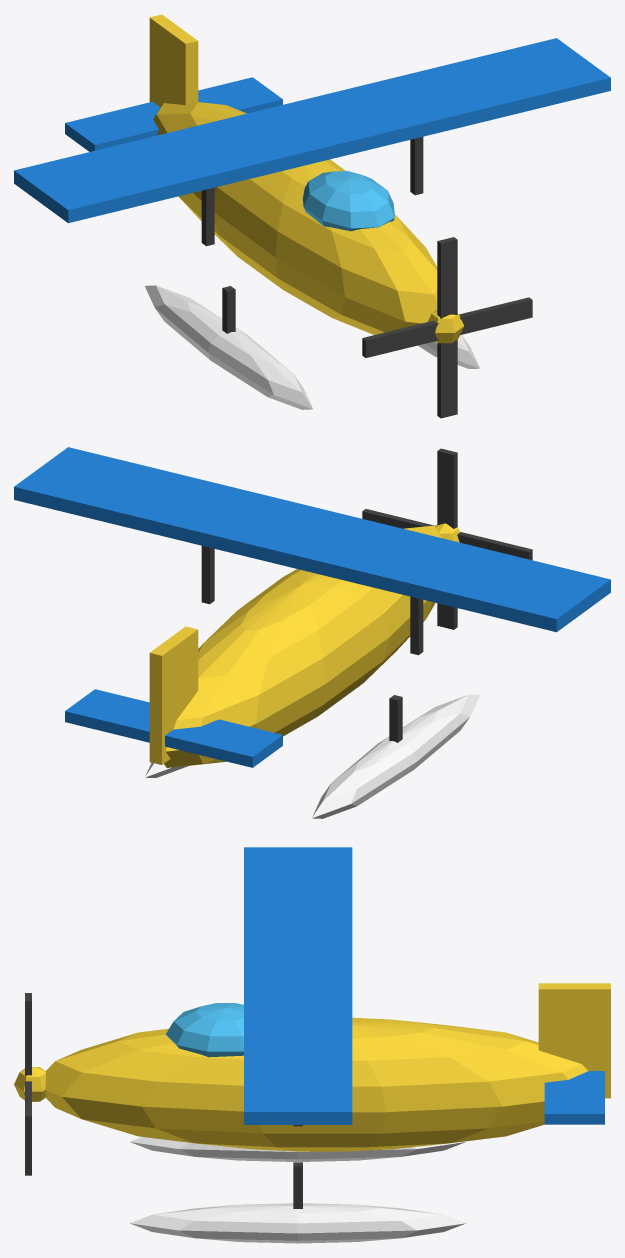
File: sjoflygplan.glb
3 renders of one model, top to bottom at view 1: azimuth 30°, elevation 25°; view 2: azimuth 150°, elevation 25°; view 3: azimuth 270°, elevation 25°, orthographic.
Visible parts, largest first — view 1: sjoflygplan; view 2: sjoflygplan; view 3: sjoflygplan.
Boxes of the visible parts, bbox=[...] form: sjoflygplan: bbox=[14, 14, 610, 418]; sjoflygplan: bbox=[14, 447, 610, 818]; sjoflygplan: bbox=[14, 847, 610, 1243].
Size of the model in its own units: 2.6 by 1.01 by 2.48.
